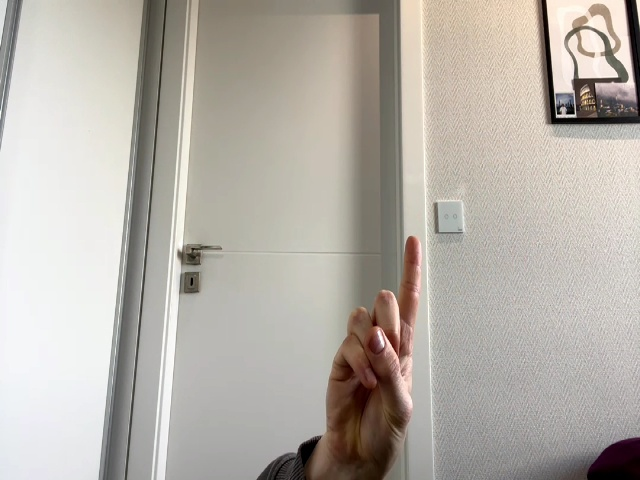Z: (326, 237, 422, 456)
